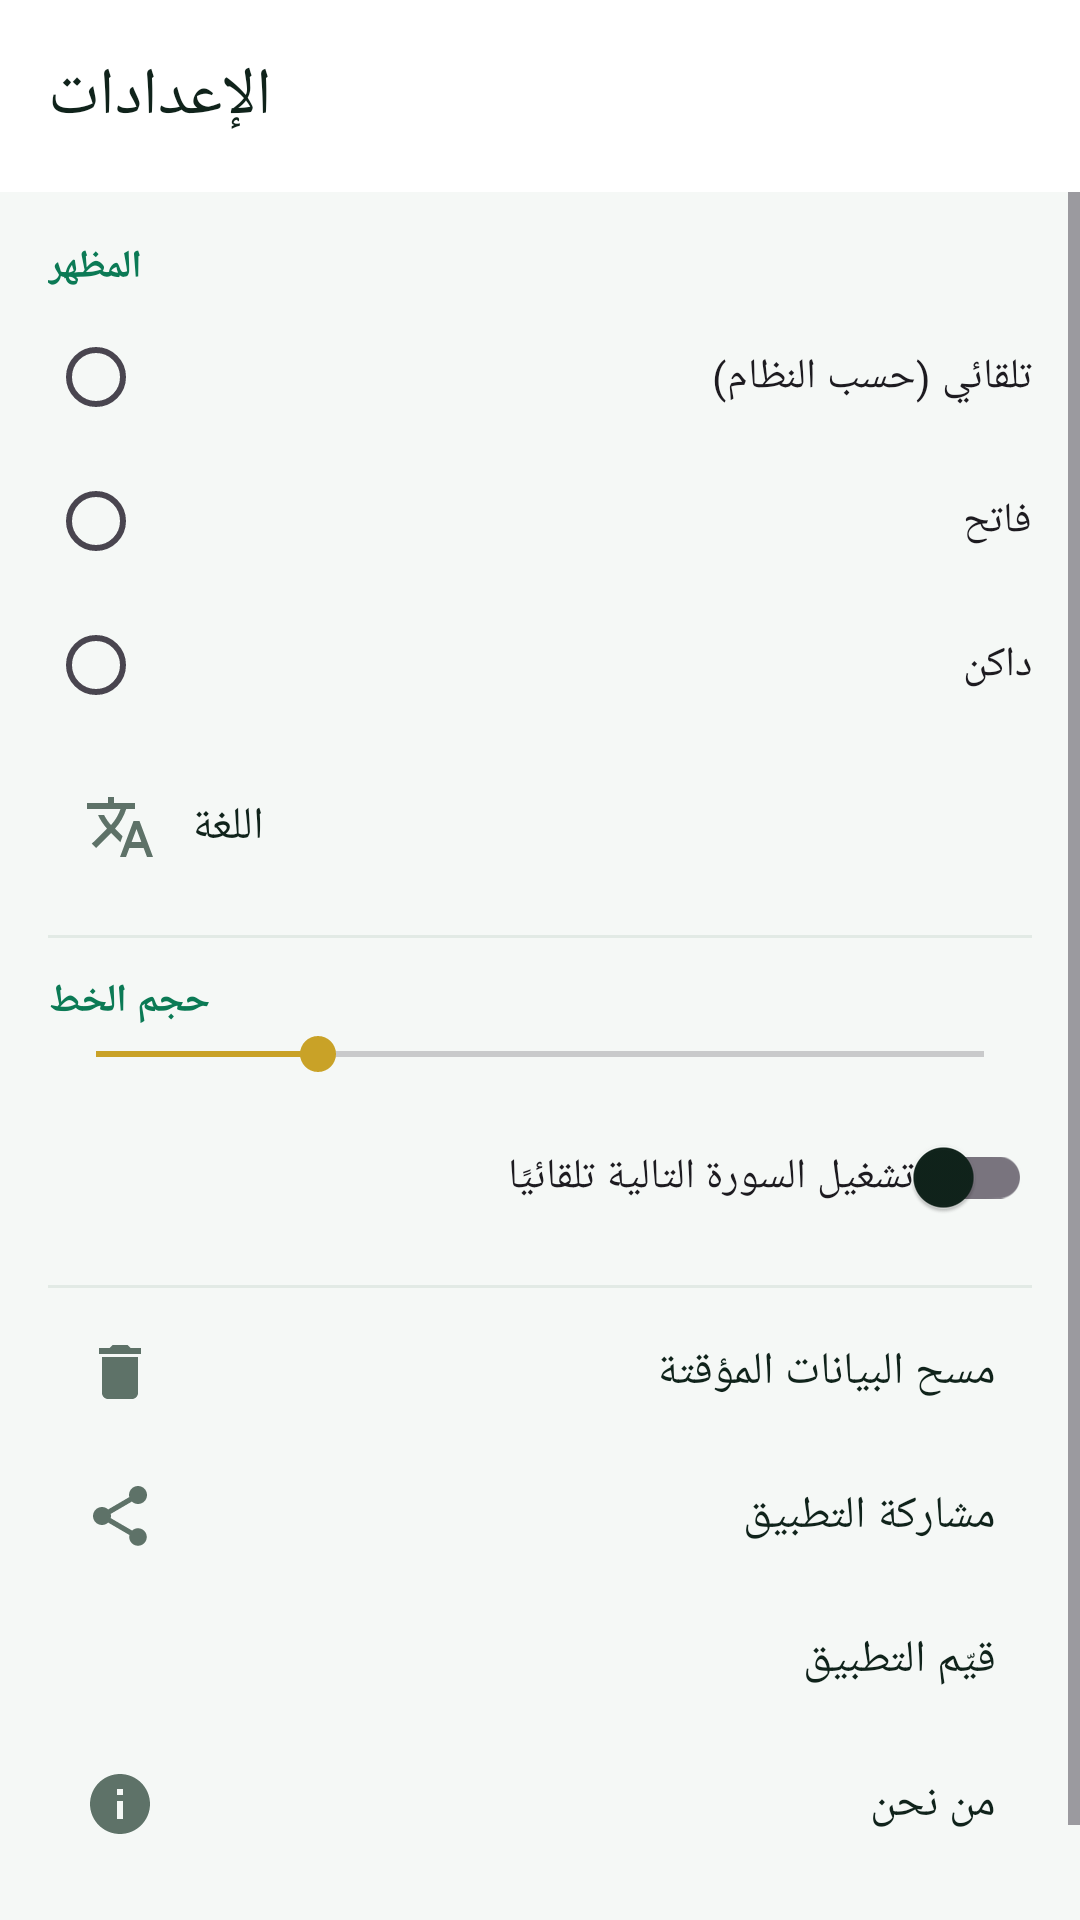

Point at icon controls on the screen. Image size 1080×1920, points as [x,y].
delete: [120,1372]
info: [120,1804]
share: [120,1516]
translate: [120,827]
